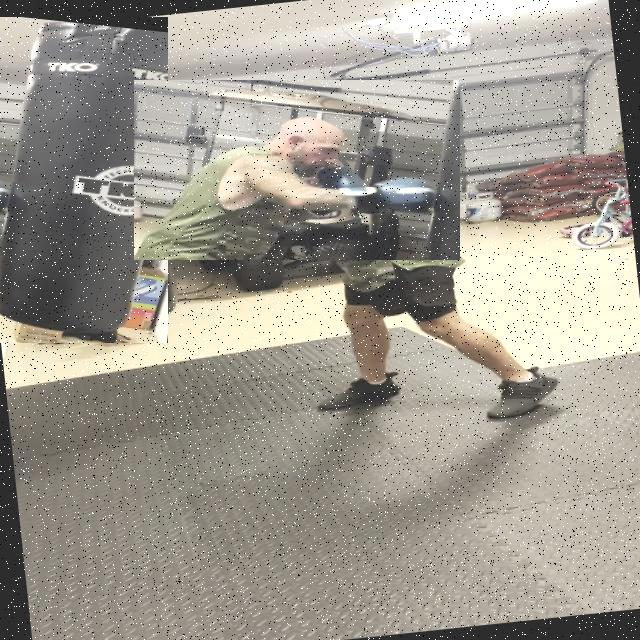punch: (134, 80, 460, 260), (0, 17, 168, 343)
